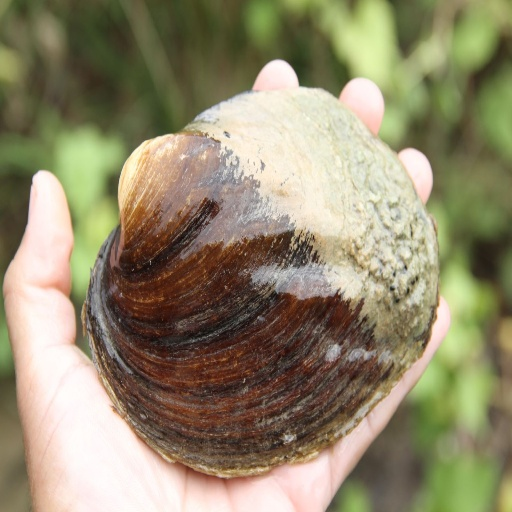hand: (80, 38, 456, 490)
